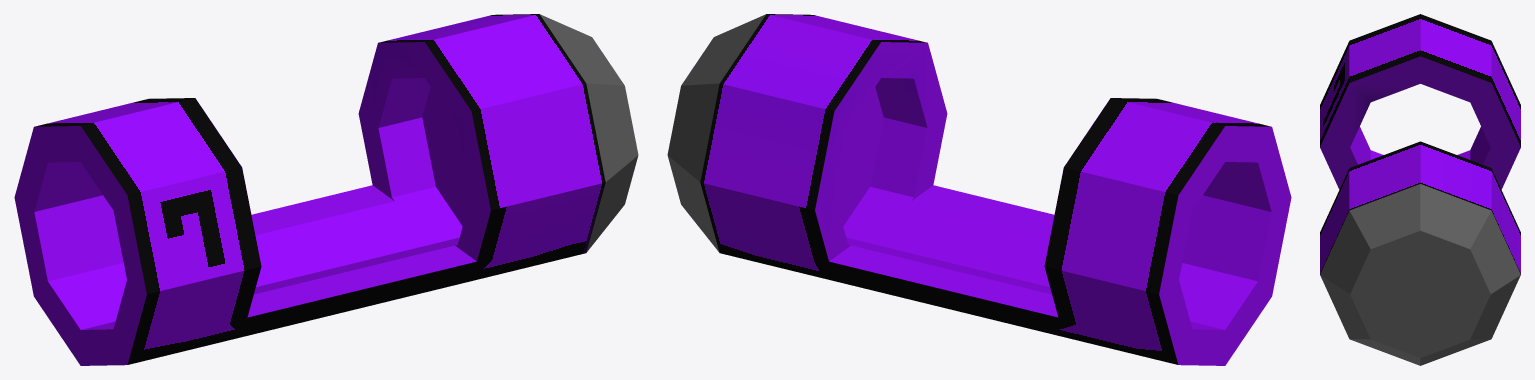
File: reverse_cannon.glb
3 renders of one model, left to right at view 1: azimuth 30°, elevation 25°; view 2: azimuth 150°, elevation 25°; view 3: azimuth 270°, elevation 25°, orthographic. The views are drawn at different scales.
Parts seen in each view (by area): view 1: reverse cannon; view 2: reverse cannon; view 3: reverse cannon.
Boxes of the visible parts, bbox=[...] form: reverse cannon: bbox=[14, 14, 638, 365]; reverse cannon: bbox=[667, 14, 1291, 365]; reverse cannon: bbox=[1320, 14, 1520, 365].
Size of the model in its own units: 4.46 by 2 by 2.
Materials: 1 (1 with a texture image).
